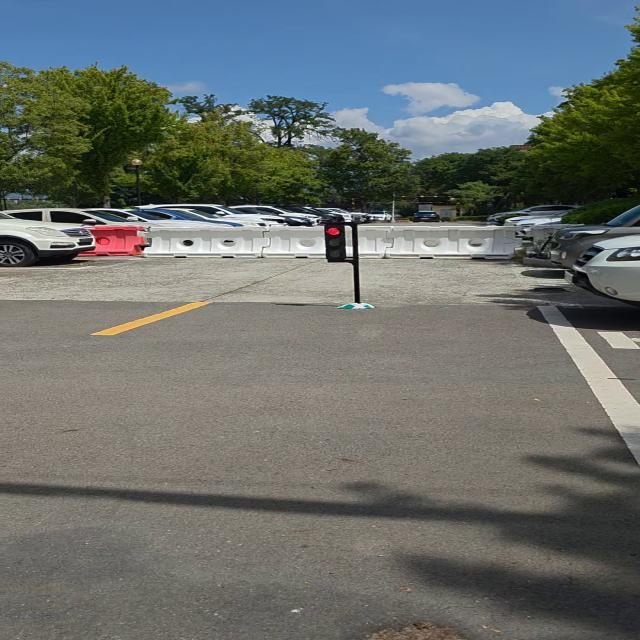red: (318, 220, 355, 264)
